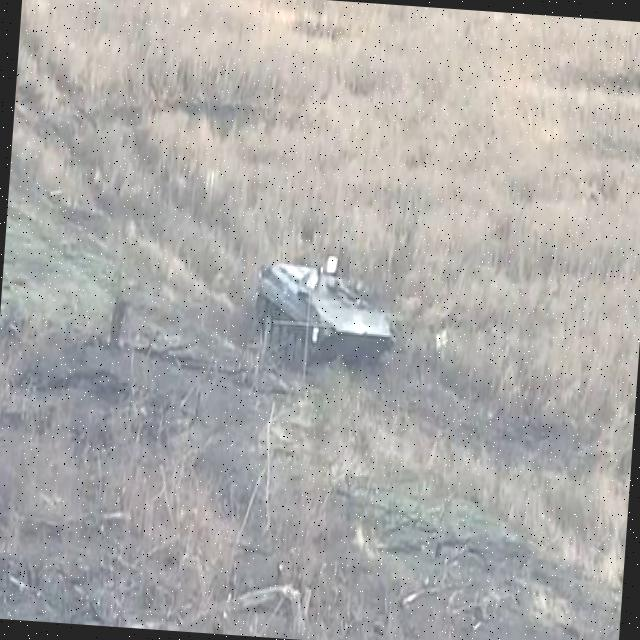AIFV: (251, 250, 400, 372)
